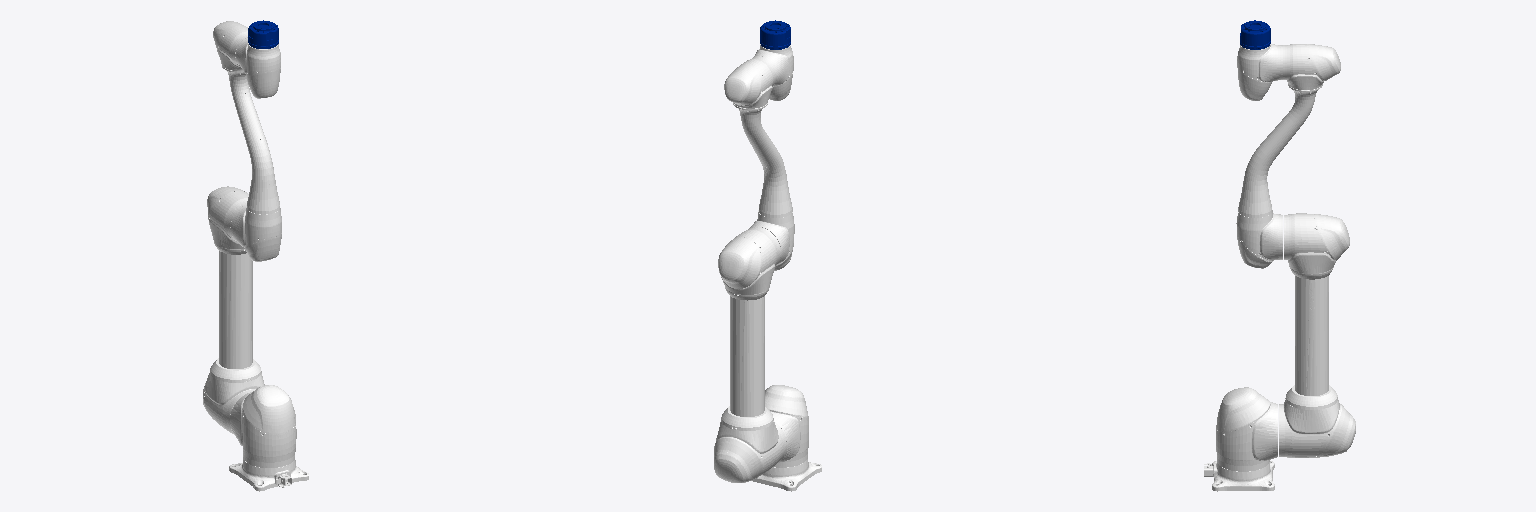
robot.urdf — m1013:
<?xml version="1.0"?>
<robot name="m1013">

  <material name="DoosanWhite"><color rgba="1.0 1.0 1.0 1.0"/></material>
  <material name="DoosanBlue"><color rgba="0.0 0.2 0.6 1.0"/></material>

  <link name="world"/>
  <joint name="fixed" type="fixed">
    <parent link="world"/>
    <child link="base_0"/>
  </joint>

  <link name="base_0">
    <inertial>
      <mass value="3.722"/>
      <origin xyz="-0.000025 -0.000854 0.026262" rpy="0 0 0"/>
      <inertia ixx="0.008311" ixy="-0.000016" ixz="-0.000000" iyy="0.008034" iyz="-0.000001" izz="0.014502"/>
    </inertial>
    <visual>
      <geometry><mesh filename="../m1013/visual/base.stl" scale="1 1 1"/></geometry>
      <material name="DoosanWhite"/>
    </visual>
    <collision>
      <geometry><mesh filename="../m1013/collision/base.stl" scale="1 1 1"/></geometry>
    </collision>
  </link>

  <joint name="joint_1" type="revolute">
    <parent link="base_0"/>
    <child link="link_1"/>
    <origin rpy="0 0 0" xyz="0 0 0.1525"/>
    <axis xyz="0 0 1"/>
    <limit effort="1000" lower="-6.283" upper="6.283" velocity="1.571"/>
    <dynamics damping="0.1" friction="0.5"/>
  </joint>

  <link name="link_1">
    <inertial>
      <mass value="7.446"/>
      <origin xyz="0.000002 0.013897 0.002585" rpy="0 0 0"/>
      <inertia ixx="0.038493" ixy="-0.000000" ixz="0.000002" iyy="0.034668" iyz="-0.000227" izz="0.027562"/>
    </inertial>
    <visual>
      <geometry><mesh filename="../m1013/visual/link1.stl" scale="1 1 1"/></geometry>
      <material name="DoosanWhite"/>
    </visual>
    <collision>
      <geometry><mesh filename="../m1013/collision/link1.stl" scale="1 1 1"/></geometry>
    </collision>
  </link>

  <joint name="joint_2" type="revolute">
    <parent link="link_1"/>
    <child link="link_2"/>
    <origin rpy="0 -1.5708 -1.5708" xyz="0 0.0345 0"/>
    <axis xyz="0 0 1"/>
    <limit effort="1000" lower="-1.658" upper="1.658" velocity="1.571"/>
    <dynamics damping="0.1" friction="0.5"/>
  </joint>

  <link name="link_2">
    <inertial>
      <mass value="10.569"/>
      <origin xyz="0.266472 0.000005 0.165814" rpy="0 0 0"/>
      <inertia ixx="0.034551" ixy="-0.000013" ixz="0.000779" iyy="0.703166" iyz="-0.000001" izz="0.693952"/>
    </inertial>
    <visual>
      <geometry><mesh filename="../m1013/visual/link2.stl" scale="1 1 1"/></geometry>
      <material name="DoosanWhite"/>
    </visual>
    <collision>
      <geometry><mesh filename="../m1013/collision/link2.stl" scale="1 1 1"/></geometry>
    </collision>
  </link>

  <joint name="joint_3" type="revolute">
    <parent link="link_2"/>
    <child link="link_3"/>
    <origin rpy="0 0 1.5708" xyz="0.62 0 0"/>
    <axis xyz="0 0 1"/>
    <limit effort="1000" lower="-2.53" upper="2.53" velocity="1.571"/>
    <dynamics damping="0.1" friction="0.5"/>
  </joint>

  <link name="link_3">
    <inertial>
      <mass value="3.614"/>
      <origin xyz="-0.000001 -0.003177 0.017743" rpy="0 0 0"/>
      <inertia ixx="0.011039" ixy="0.000001" ixz="-0.000000" iyy="0.007487" iyz="-0.000458" izz="0.009779"/>
    </inertial>
    <visual>
      <geometry><mesh filename="../m1013/visual/link3.stl" scale="1 1 1"/></geometry>
      <material name="DoosanWhite"/>
    </visual>
    <collision>
      <geometry><mesh filename="../m1013/collision/link3.stl" scale="1 1 1"/></geometry>
    </collision>
  </link>

  <joint name="joint_4" type="revolute">
    <parent link="link_3"/>
    <child link="link_4"/>
    <origin rpy="1.5708 0 0" xyz="0 -0.559 0"/>
    <axis xyz="0 0 1"/>
    <limit effort="1000" lower="-6.283" upper="6.283" velocity="1.571"/>
    <dynamics damping="0.5" friction="0.2"/>
  </joint>

  <link name="link_4">
    <inertial>
      <mass value="1.5"/>
      <origin xyz="0 0 0" rpy="0 0 0"/>
      <inertia ixx="0.01" ixy="0.0" ixz="0.0" iyy="0.01" iyz="0.0" izz="0.01"/>
    </inertial>
    <visual>
      <geometry><mesh filename="../m1013/visual/link4.stl" scale="1 1 1"/></geometry>
      <material name="DoosanWhite"/>
    </visual>
    <collision>
      <geometry><mesh filename="../m1013/collision/link4.stl" scale="1 1 1"/></geometry>
    </collision>
  </link>

  <joint name="joint_5" type="revolute">
    <parent link="link_4"/>
    <child link="link_5"/>
    <origin rpy="-1.5708 0 0" xyz="0 0 0"/>
    <axis xyz="0 0 1"/>
    <limit effort="1000" lower="-2.356" upper="2.356" velocity="1.571"/>
    <dynamics damping="0.5" friction="0.2"/>
  </joint>

  <link name="link_5">
    <inertial>
      <mass value="1.2"/>
      <origin xyz="0 0 0" rpy="0 0 0"/>
      <inertia ixx="0.01" ixy="0.0" ixz="0.0" iyy="0.01" iyz="0.0" izz="0.01"/>
    </inertial>
    <visual>
      <geometry><mesh filename="../m1013/visual/link5.stl" scale="1 1 1"/></geometry>
      <material name="DoosanWhite"/>
    </visual>
    <collision>
      <geometry><mesh filename="../m1013/collision/link5.stl" scale="1 1 1"/></geometry>
    </collision>
  </link>

  <joint name="joint_6" type="revolute">
    <parent link="link_5"/>
    <child link="link_6"/>
    <origin rpy="1.5708 0 0" xyz="0 -0.121 0"/>
    <axis xyz="0 0 1"/>
    <limit effort="1000" lower="-6.283" upper="6.283" velocity="1.571"/>
    <dynamics damping="0.5" friction="0.2"/>
  </joint>

  <link name="link_6">
    <inertial>
      <mass value="0.9"/>
      <origin xyz="0 0 0" rpy="0 0 0"/>
      <inertia ixx="0.005" ixy="0.0" ixz="0.0" iyy="0.005" iyz="0.0" izz="0.005"/>
    </inertial>
    <visual>
      <geometry><mesh filename="../m1013/visual/link6.stl" scale="1 1 1"/></geometry>
      <material name="DoosanBlue"/>
    </visual>
    <collision>
      <geometry><mesh filename="../m1013/collision/link6.stl" scale="1 1 1"/></geometry>
    </collision>
  </link>

  <gazebo>
    <plugin filename="gz-sim-joint-position-controller-system" name="gz::sim::systems::JointPositionController">
      <joint_name>joint_1</joint_name>
      <topic>/model/m1013/joint/joint_1/cmd_pos</topic>
      <p_gain>500.0</p_gain>
      <i_gain>0.0</i_gain>
      <d_gain>10.0</d_gain>
    </plugin>
    <plugin filename="gz-sim-joint-position-controller-system" name="gz::sim::systems::JointPositionController">
      <joint_name>joint_2</joint_name>
      <topic>/model/m1013/joint/joint_2/cmd_pos</topic>
      <p_gain>500.0</p_gain>
      <i_gain>0.0</i_gain>
      <d_gain>50.0</d_gain>
    </plugin>
    <plugin filename="gz-sim-joint-position-controller-system" name="gz::sim::systems::JointPositionController">
      <joint_name>joint_3</joint_name>
      <topic>/model/m1013/joint/joint_3/cmd_pos</topic>
      <p_gain>500.0</p_gain>
      <i_gain>0.0</i_gain>
      <d_gain>50.0</d_gain>
    </plugin>
    <plugin filename="gz-sim-joint-position-controller-system" name="gz::sim::systems::JointPositionController">
      <joint_name>joint_4</joint_name>
      <topic>/model/m1013/joint/joint_4/cmd_pos</topic>
      <p_gain>500.0</p_gain>
      <i_gain>0.0</i_gain>
      <d_gain>50.0</d_gain>
    </plugin>
    <plugin filename="gz-sim-joint-position-controller-system" name="gz::sim::systems::JointPositionController">
      <joint_name>joint_5</joint_name>
      <topic>/model/m1013/joint/joint_5/cmd_pos</topic>
      <p_gain>500.0</p_gain>
      <i_gain>0.0</i_gain>
      <d_gain>50.0</d_gain>
    </plugin>
    <plugin filename="gz-sim-joint-position-controller-system" name="gz::sim::systems::JointPositionController">
      <joint_name>joint_6</joint_name>
      <topic>/model/m1013/joint/joint_6/cmd_pos</topic>
      <p_gain>500.0</p_gain>
      <i_gain>0.0</i_gain>
      <d_gain>50.0</d_gain>
    </plugin>

    <plugin filename="gz-sim-joint-state-publisher-system" name="gz::sim::systems::JointStatePublisher">
      <topic>/model/m1013/joint_states</topic>
    </plugin>
  </gazebo>

  <gazebo reference="base_0"><material>Gazebo/White</material></gazebo>
  <gazebo reference="link_1"><material>Gazebo/White</material></gazebo>
  <gazebo reference="link_2"><material>Gazebo/White</material></gazebo>
  <gazebo reference="link_3"><material>Gazebo/White</material></gazebo>
  <gazebo reference="link_4"><material>Gazebo/White</material></gazebo>
  <gazebo reference="link_5"><material>Gazebo/White</material></gazebo>
  <gazebo reference="link_6"><material>Gazebo/Blue</material></gazebo>

</robot>

--- Facts derived from the render (not from the file) ---
The picture shows the robot from 3 angles, left to right: view 1: azimuth 30°, elevation 25°; view 2: azimuth 150°, elevation 25°; view 3: azimuth 270°, elevation 25°; orthographic projection.
Robot: m1013 — 8 links, 7 joints (6 revolute, 1 fixed); root link world; default pose: every joint at zero.
Links seen in each view (by area): view 1: link_2, link_1, link_4, link_3, link_5, base_0, link_6; view 2: link_2, link_4, link_1, base_0, link_5, link_3, link_6; view 3: link_2, link_4, link_1, link_3, link_5, base_0, link_6.
Boxes of the visible links, box(x1,y1,x2,y2) form: link_2: box(203, 186, 264, 434); link_1: box(230, 385, 296, 467); link_4: box(213, 21, 279, 214); link_3: box(231, 204, 281, 261); link_5: box(235, 38, 280, 98); base_0: box(229, 457, 308, 491); link_6: box(248, 20, 278, 48); link_2: box(714, 227, 786, 482); link_4: box(724, 56, 792, 217); link_1: box(765, 385, 808, 467); base_0: box(752, 459, 821, 491); link_5: box(754, 44, 793, 100); link_3: box(749, 210, 794, 270); link_6: box(760, 20, 790, 49); link_2: box(1279, 213, 1355, 457); link_4: box(1238, 44, 1340, 217); link_1: box(1216, 387, 1277, 471); link_3: box(1236, 211, 1282, 268); link_5: box(1237, 44, 1282, 100); base_0: box(1204, 461, 1274, 491); link_6: box(1240, 20, 1270, 49).
Bounding box of the posed robot: 0.1824 × 0.4439 × 1.45 m (x, y, z).
Meshes: 7 distinct files referenced, 7 mesh visuals loaded (7 binary STL).
